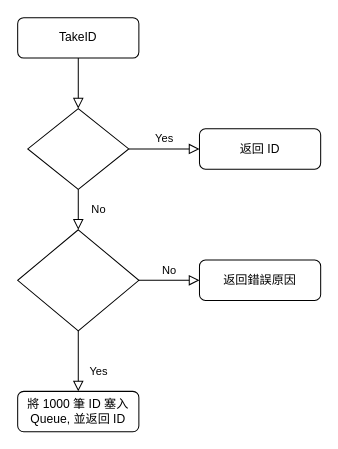
This 338x449 diagram has some shape labels left out. Here are the shapes that lost their labels. From the top down, the centre of each, then its label:
the point at 78,148: Queue 裡存在
the point at 78,280: 從 ID Pool 裡 取得 1000 筆 ID 成功?
